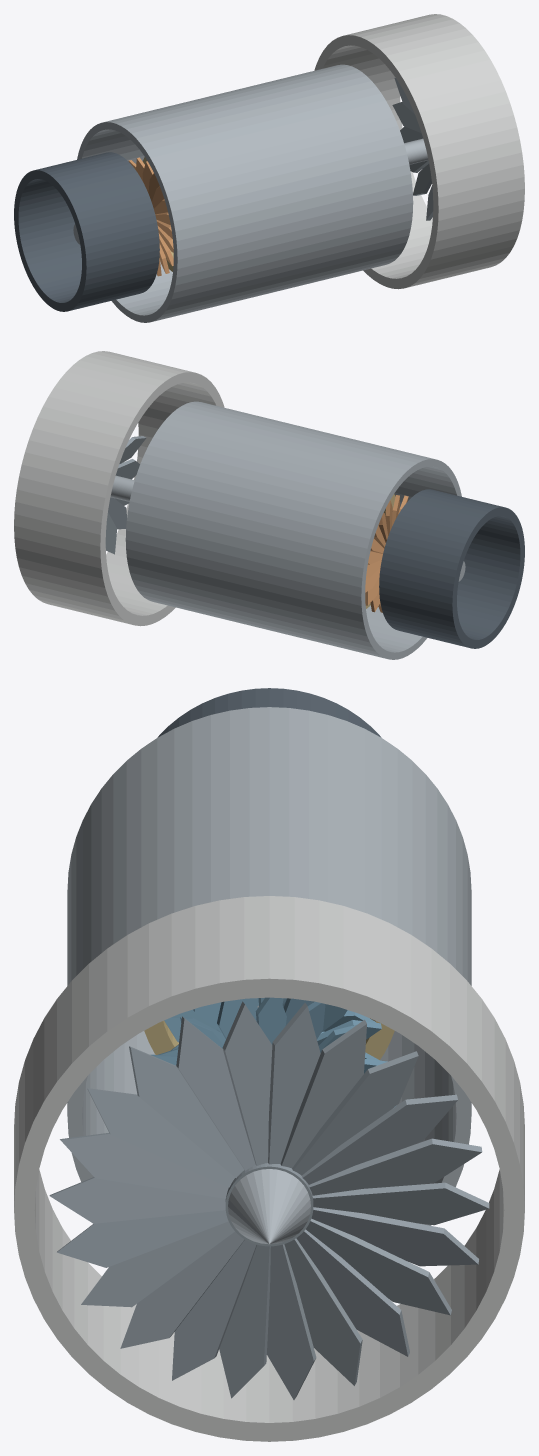
The model's file is assembly.glb.
The picture shows the model from 3 angles, top to bottom: view 1: azimuth 30°, elevation 25°; view 2: azimuth 150°, elevation 25°; view 3: azimuth 270°, elevation 25°; orthographic projection. The views are drawn at different scales.
Visible parts, largest first — view 1: part-001, part-000, part-011, part-002, part-010, part-003, part-005; view 2: part-002, part-000, part-011, part-001, part-010, part-003, part-005; view 3: part-003, part-000, part-002, part-001, part-004, part-011, part-006, part-007, part-009.
Part boxes in pixels (x1,y1,x2,y2): part-001: (126, 72, 413, 322); part-000: (314, 14, 524, 289); part-011: (14, 152, 159, 311); part-002: (77, 64, 361, 315); part-010: (128, 157, 173, 276); part-003: (392, 77, 433, 220); part-005: (73, 138, 428, 244); part-002: (125, 409, 412, 659); part-000: (14, 351, 224, 626); part-011: (379, 489, 524, 648); part-001: (177, 401, 461, 652); part-010: (365, 495, 408, 612); part-003: (105, 436, 146, 554); part-005: (110, 475, 465, 581); part-003: (49, 1001, 489, 1399); part-000: (14, 896, 524, 1441); part-002: (269, 707, 471, 1225); part-001: (67, 707, 269, 1181); part-004: (228, 1169, 310, 1244); part-011: (157, 688, 381, 737); part-006: (150, 997, 396, 1107); part-007: (158, 998, 381, 1060); part-009: (144, 1018, 394, 1059).
Size of the model in its own units: 0.17 by 0.086 by 0.086.
